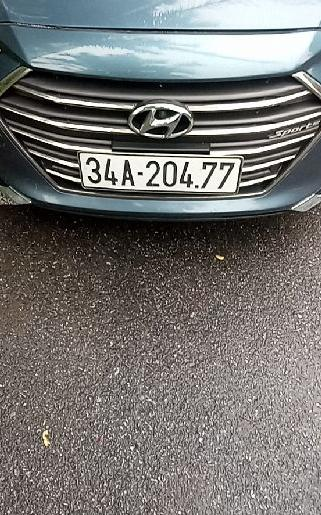Plate-iWeP: (78, 154, 242, 195)
